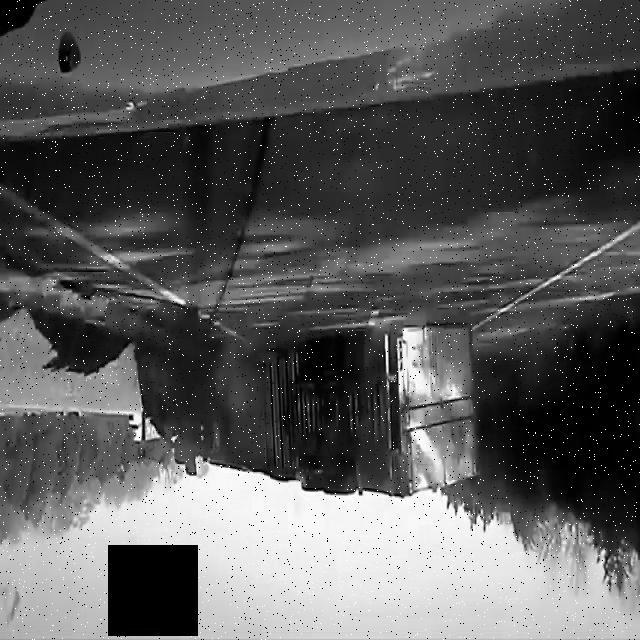severe: (148, 314, 482, 506)
